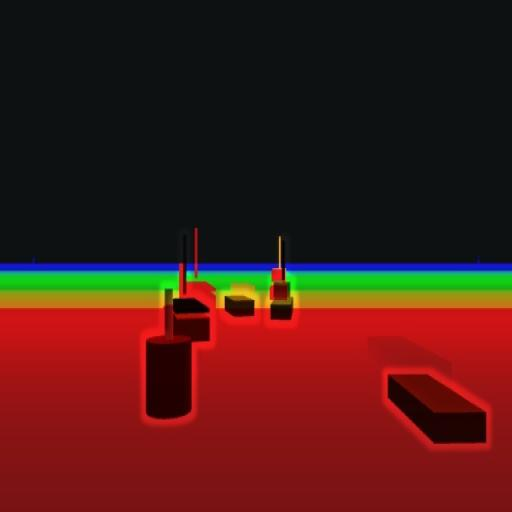fishing_boat: (268, 240, 294, 322)
floating_obstacle: (144, 288, 193, 422)
